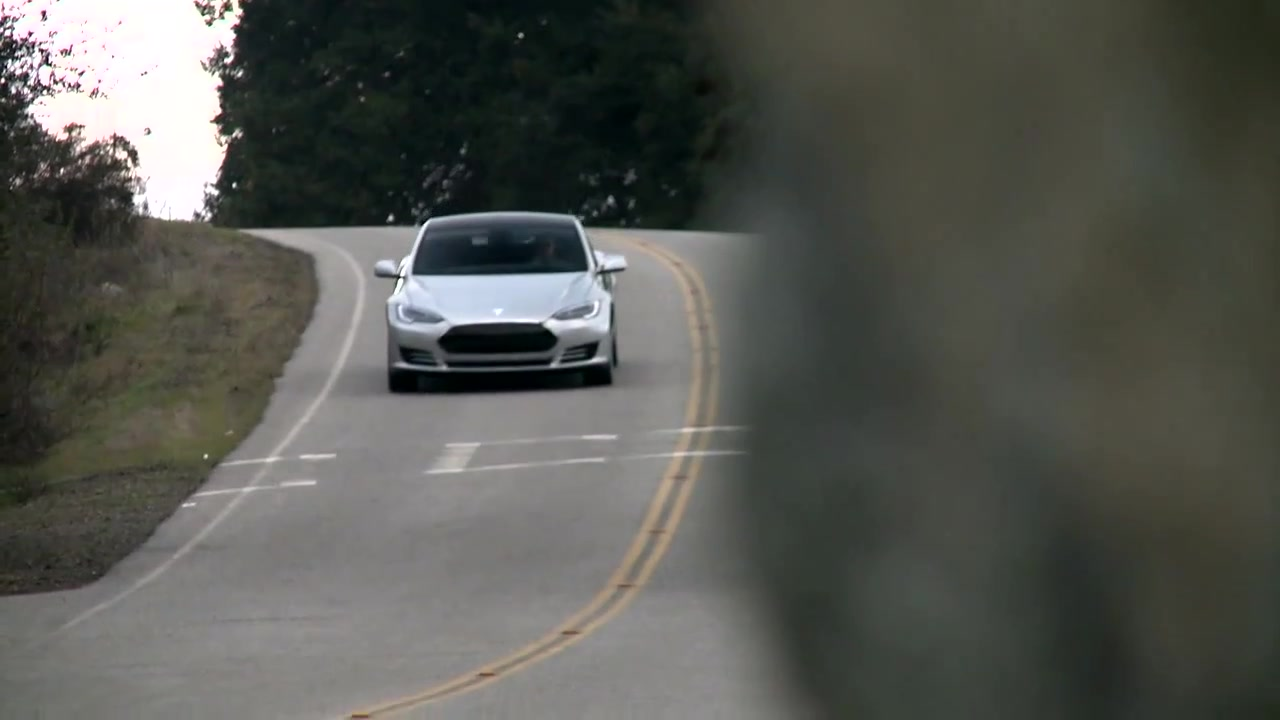car: (374, 212, 630, 386)
